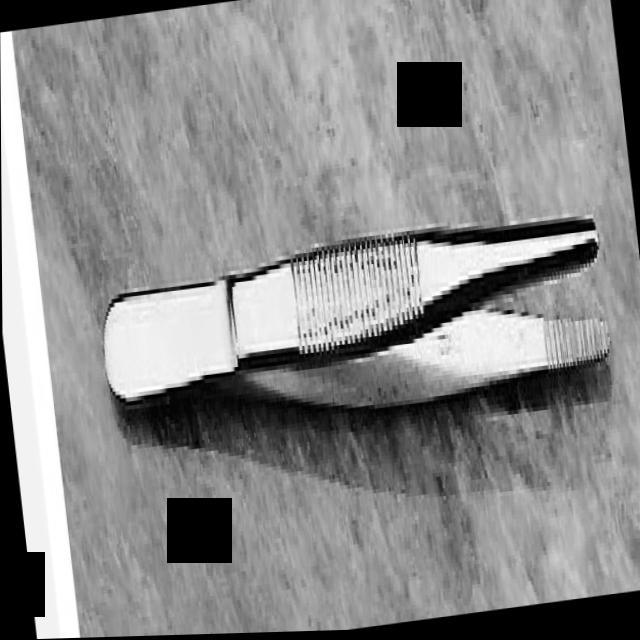Disscting Forceps -Plain-: (90, 188, 620, 468)
